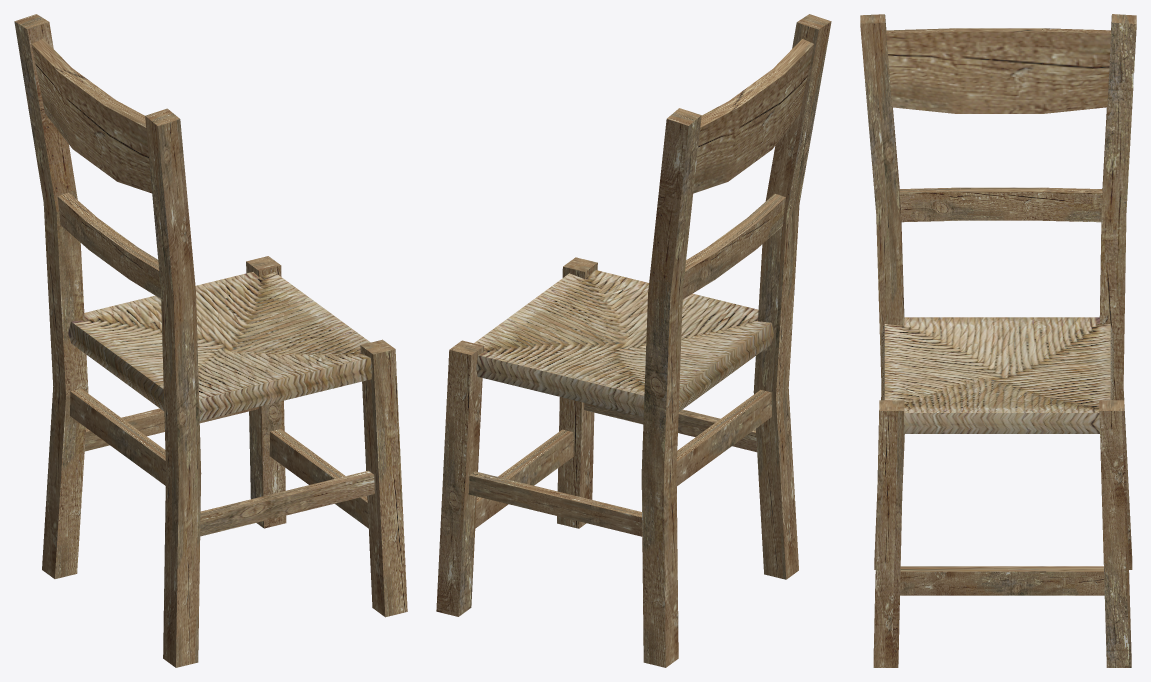
Rendered from ChairCafe01.obj.
The picture shows the model from 3 angles, left to right: view 1: azimuth 30°, elevation 25°; view 2: azimuth 150°, elevation 25°; view 3: azimuth 270°, elevation 25°; orthographic projection. The views are drawn at different scales.
Parts seen in each view (by area): view 1: Box03, OilTank01; view 2: Box03, OilTank01; view 3: Box03, OilTank01.
Part boxes in pixels (<box>): Box03: <box>14,14,407,667</box>; OilTank01: <box>68,272,372,420</box>; Box03: <box>436,14,831,667</box>; OilTank01: <box>474,270,774,416</box>; Box03: <box>860,14,1136,667</box>; OilTank01: <box>881,317,1113,433</box>.
Size of the model in its own units: 0.466 by 0.9529 by 0.4463.
Materials: 2 (2 with a texture image).
